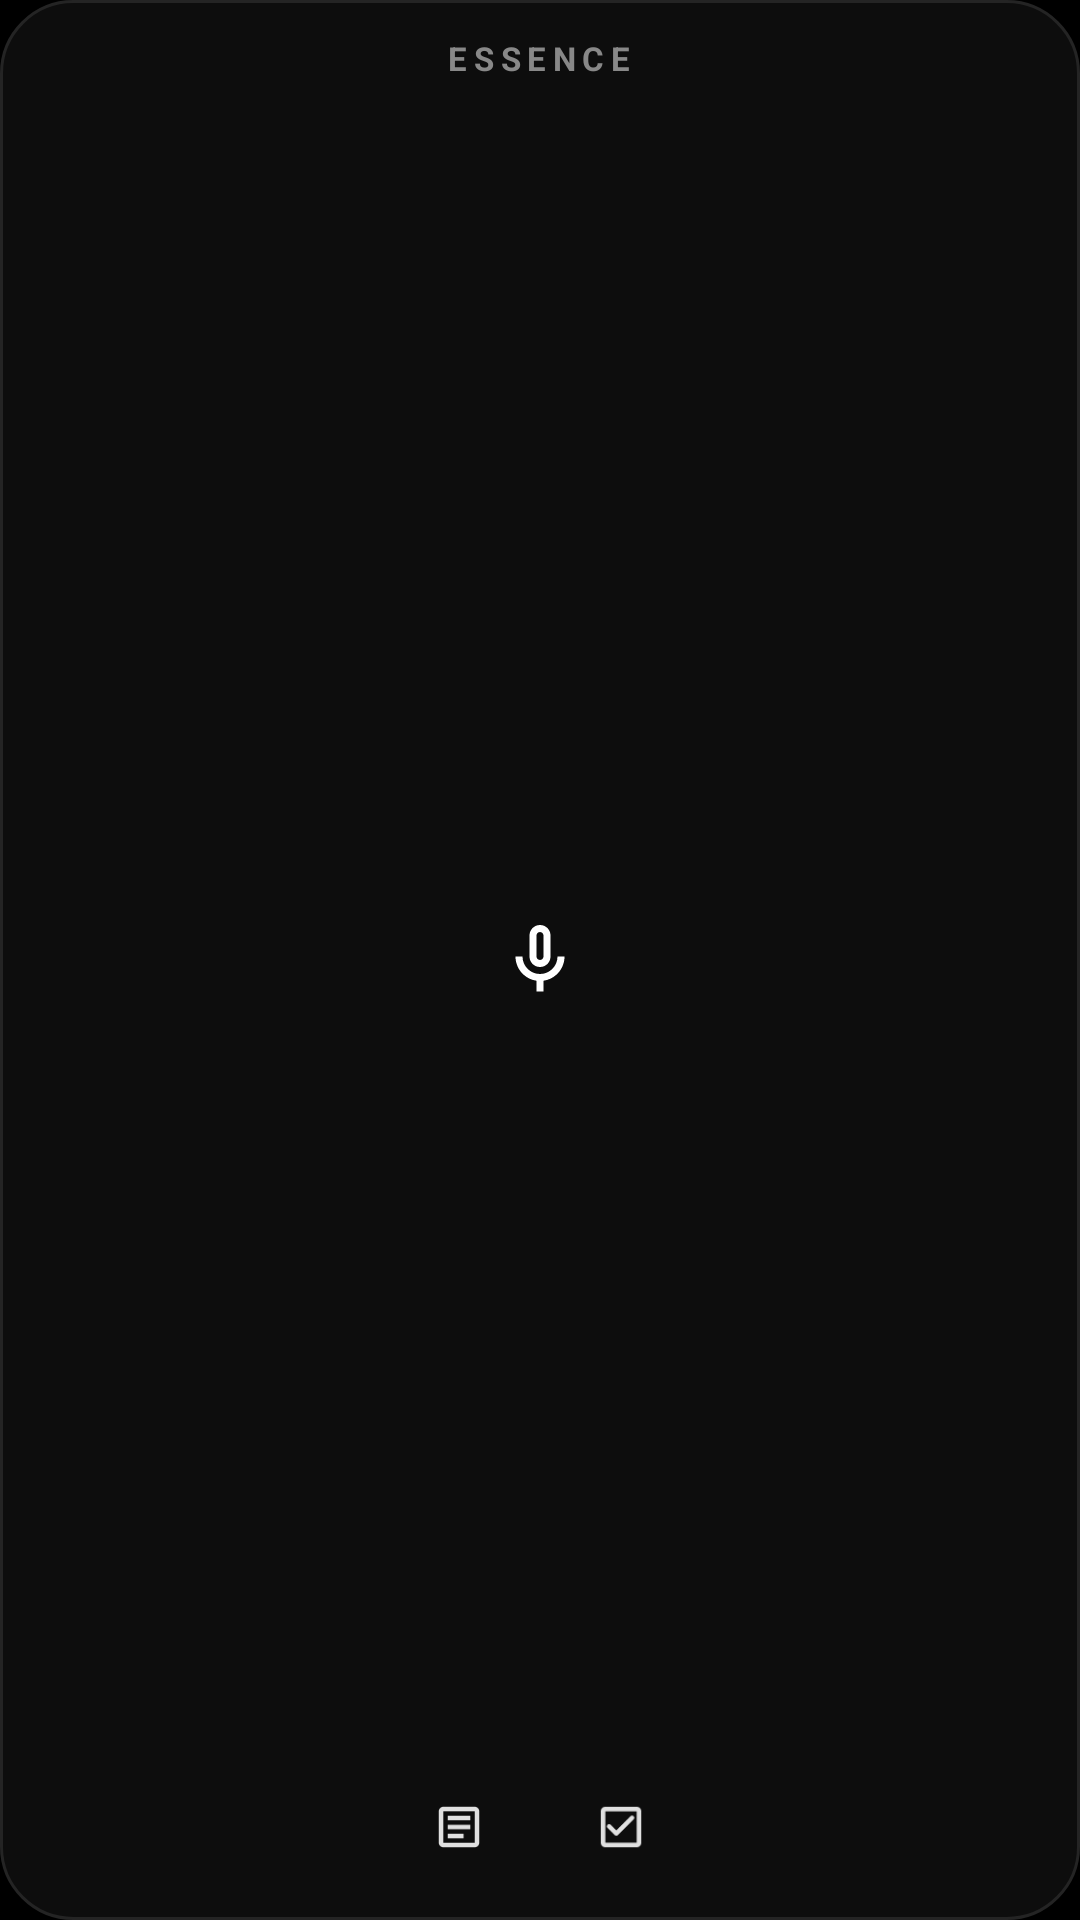

Named icons in this screenshot (1080px×1920px) and their bounding boxes, (x1,y1,x2,y2):
New Note: (438,1806,480,1848)
New Task: (600,1806,642,1848)
Record Voice Note: (515,925,565,992)
